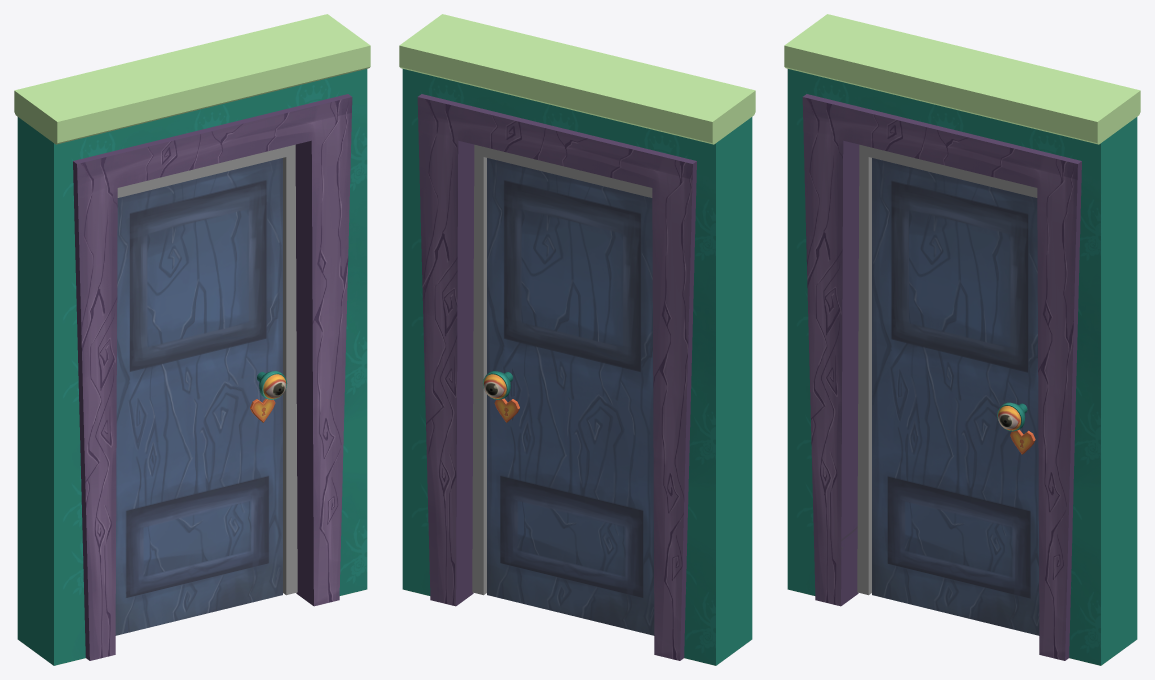
Rendered from PuertaConMarco.fbx.
3 views of the same model, side by side, from view 1: azimuth 30°, elevation 25°; view 2: azimuth 150°, elevation 25°; view 3: azimuth 330°, elevation 25° (orthographic).
Visible parts, largest first — view 1: Puerta1, Pared_con_puerta, polySurface1, Marco_de_la_puerta; view 2: Puerta1, Pared_con_puerta, polySurface1, Marco_de_la_puerta; view 3: Puerta1, Pared_con_puerta, polySurface1, Marco_de_la_puerta.
Boxes of the visible parts, <box> form: Puerta1: <box>115,158,287,635</box>; Pared_con_puerta: <box>14,14,370,665</box>; polySurface1: <box>73,94,352,660</box>; Marco_de_la_puerta: <box>117,144,297,595</box>; Puerta1: <box>482,158,654,635</box>; Pared_con_puerta: <box>399,14,755,665</box>; polySurface1: <box>417,94,696,660</box>; Marco_de_la_puerta: <box>472,144,652,595</box>; Puerta1: <box>872,158,1039,635</box>; Pared_con_puerta: <box>784,14,1140,665</box>; polySurface1: <box>802,94,1081,660</box>; Marco_de_la_puerta: <box>857,144,1037,595</box>.
Bounding box in the file's own units: 150 × 250 × 37.
